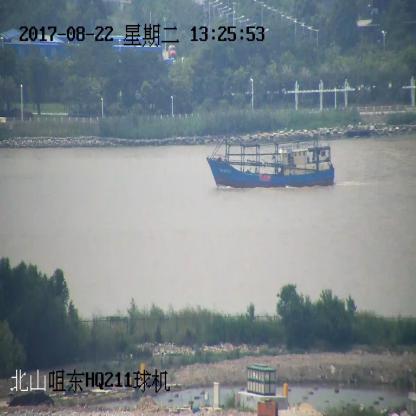Fishing Boat: (207, 130, 334, 189)
